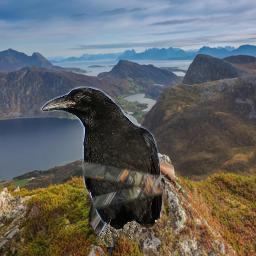Crow: (40, 86, 164, 247)
